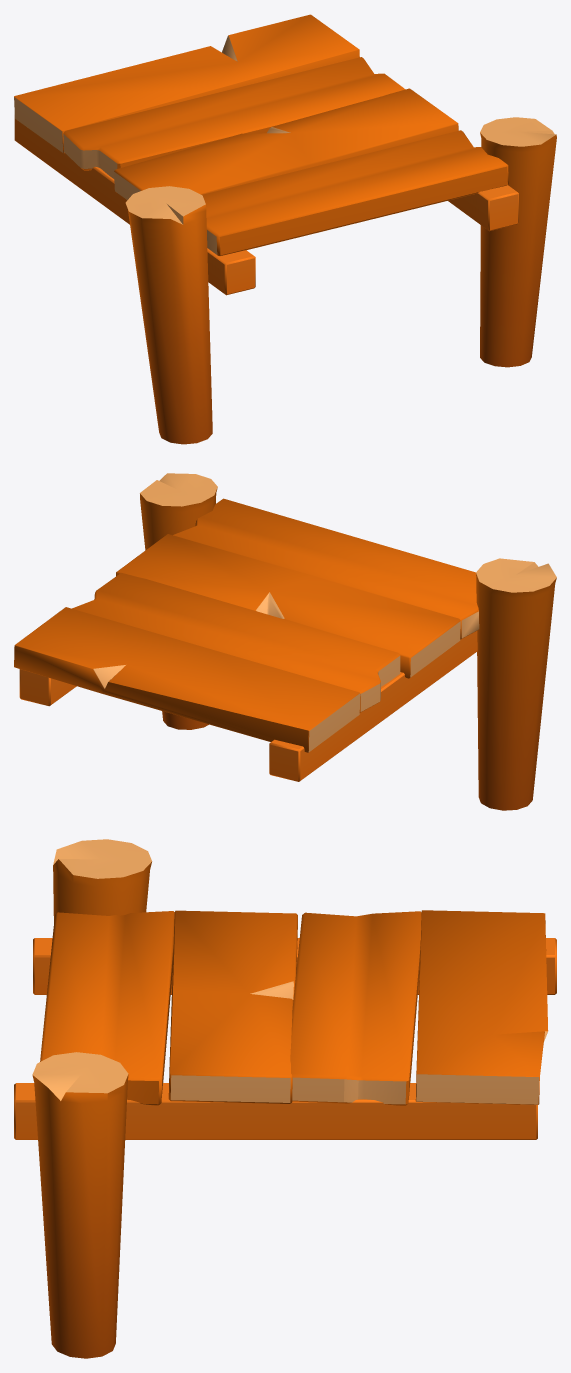
Rendered from Props_Wooden_Dock_01.fbx.
3 views of the same model, one above another, from view 1: azimuth 30°, elevation 25°; view 2: azimuth 150°, elevation 25°; view 3: azimuth 270°, elevation 25° (orthographic). The views are drawn at different scales.
Parts seen in each view (by area): view 1: Props_Wooden_Dock_01; view 2: Props_Wooden_Dock_01; view 3: Props_Wooden_Dock_01.
Boxes of the visible parts, x1,y1,x2,y2 form: Props_Wooden_Dock_01: (14, 14, 556, 444); Props_Wooden_Dock_01: (14, 473, 556, 810); Props_Wooden_Dock_01: (14, 839, 556, 1358).
Bounding box in the file's own units: 206 × 111 × 191.
